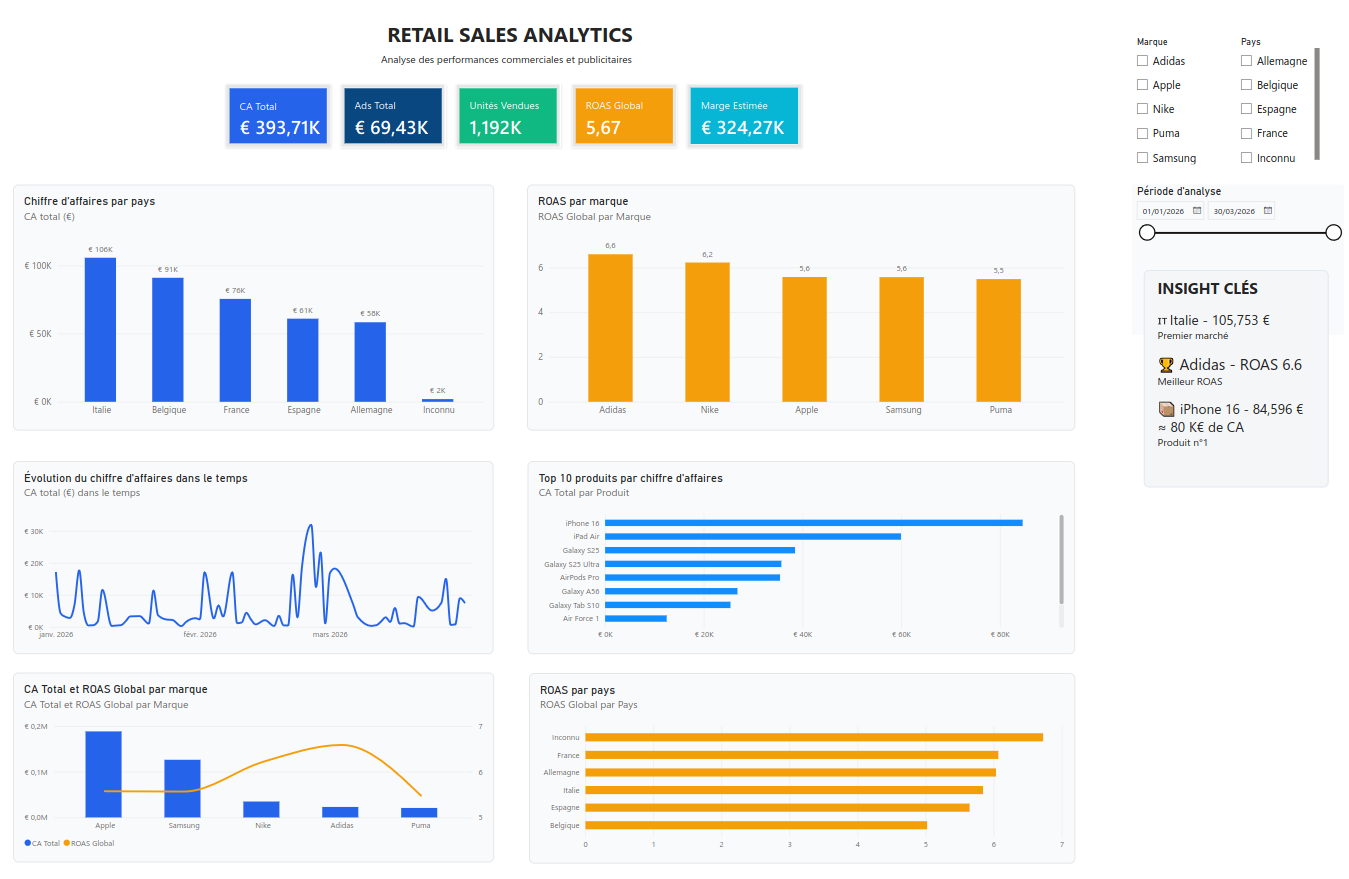

What the dashboard file says about the page in this screenshot:
{"tool":"powerbi","page":{"name":"Page 1","canvas":[2560,1440],"ordinal":0},"visuals":[{"type":"cardVisual","fields":{"Data":["sales_retail_etl.CA Total"]},"box":[781.2,146,164.8,98.9],"z":0},{"type":"clusteredColumnChart","title":"Chiffre d''affaires par pays","fields":{"Category":["sales_retail_etl.Pays"],"Y":["sales_retail_etl.CA Total"]},"box":[448.1,302.5,752.5,385],"z":1000},{"type":"clusteredColumnChart","title":"ROAS par marque","fields":{"Category":["sales_retail_etl.Marque"],"Y":["sales_retail_etl.ROAS Global"]},"box":[1253.1,302.5,857.5,385],"z":2000},{"type":"lineChart","title":"Évolution du chiffre d''affaires dans le temps","fields":{"Category":["sales_retail_etl.Date"],"Y":["sales_retail_etl.CA Total"]},"box":[447.5,736.1,751.9,301.7],"z":3000},{"type":"clusteredBarChart","title":"Top 10 produits par chiffre d''affaires","fields":{"Category":["sales_retail_etl.Produit"],"Y":["sales_retail_etl.CA Total"]},"box":[1254.2,736.1,856.7,301.7],"z":4000},{"type":"clusteredBarChart","title":"ROAS par pays","fields":{"Category":["sales_retail_etl.Pays"],"Y":["sales_retail_etl.ROAS Global"]},"box":[1255.6,1067.5,855,297.5],"z":5000},{"type":"lineStackedColumnComboChart","title":"CA Total et ROAS Global par marque","fields":{"Category":["sales_retail_etl.Marque"],"Y":["sales_retail_etl.CA Total"],"Y2":["sales_retail_etl.ROAS Global"]},"box":[448,1067,752.9,296.9],"z":6000},{"type":"textbox","box":[952.5,45,546,52],"z":7000},{"type":"textbox","box":[1024.3,95.7,401.4,30],"z":8000},{"type":"cardVisual","fields":{"Data":["sales_retail_etl.Ads Total"]},"box":[961.2,146,164.8,98.9],"z":9000},{"type":"cardVisual","fields":{"Data":["sales_retail_etl.Unités Vendues"]},"box":[1141.2,146,164.8,98.9],"z":10000},{"type":"cardVisual","fields":{"Data":["sales_retail_etl.ROAS Global"]},"box":[1323.2,146,164.8,98.9],"z":11000},{"type":"cardVisual","fields":{"Data":["sales_retail_etl.Marge Estimée"]},"box":[1502.5,145,180,100],"z":12000},{"type":"slicer","fields":{"Values":["sales_retail_etl.Pays"]},"box":[2362.9,71.4,131.4,218.6],"z":13000},{"type":"slicer","fields":{"Values":["sales_retail_etl.Marque"]},"box":[2200,71.4,131.4,218.6],"z":14000},{"type":"slicer","title":"Période d''analyse","fields":{"Values":["sales_retail_etl.Date"]},"box":[2200,303.3,331.7,235],"z":15000},{"type":"textbox","box":[2218.6,437.1,288.6,340],"z":15001}]}

Visuals, with their boxes on the page's 2560x1440 design canvas (x1, y1, x2, y2). These are canvas units, not pixel positions in the 1349x879 screenshot, which may show the page scaled, cropped or inside an application window:
cardVisual - sales_retail_etl.CA Total: [781, 146, 946, 245]
"Chiffre d''affaires par pays" clusteredColumnChart: [448, 302, 1201, 688]
"ROAS par marque" clusteredColumnChart: [1253, 302, 2111, 688]
"Évolution du chiffre d''affaires dans le temps" lineChart: [448, 736, 1199, 1038]
"Top 10 produits par chiffre d''affaires" clusteredBarChart: [1254, 736, 2111, 1038]
"ROAS par pays" clusteredBarChart: [1256, 1068, 2111, 1365]
"CA Total et ROAS Global par marque" lineStackedColumnComboChart: [448, 1067, 1201, 1364]
textbox: [952, 45, 1498, 97]
textbox: [1024, 96, 1426, 126]
cardVisual - sales_retail_etl.Ads Total: [961, 146, 1126, 245]
cardVisual - sales_retail_etl.Unités Vendues: [1141, 146, 1306, 245]
cardVisual - sales_retail_etl.ROAS Global: [1323, 146, 1488, 245]
cardVisual - sales_retail_etl.Marge Estimée: [1502, 145, 1682, 245]
slicer - sales_retail_etl.Pays: [2363, 71, 2494, 290]
slicer - sales_retail_etl.Marque: [2200, 71, 2331, 290]
"Période d''analyse" slicer: [2200, 303, 2532, 538]
textbox: [2219, 437, 2507, 777]
